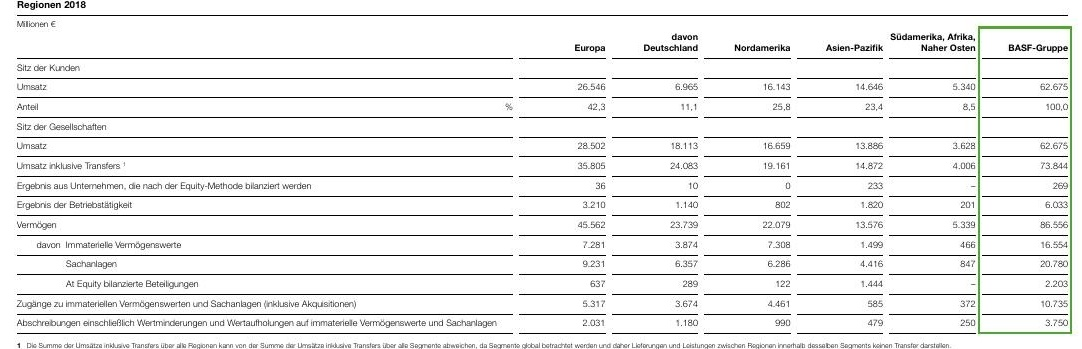table: (0, 0, 1082, 349)
